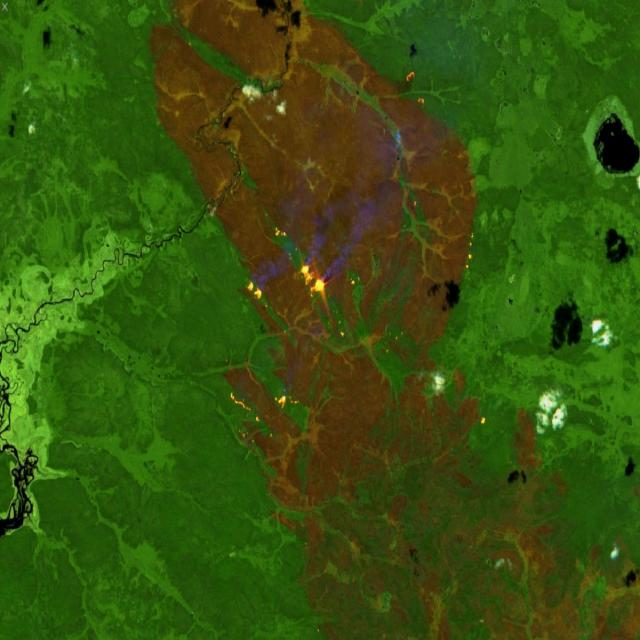fire: (226, 377, 306, 442), (296, 250, 328, 309), (242, 274, 270, 310)
